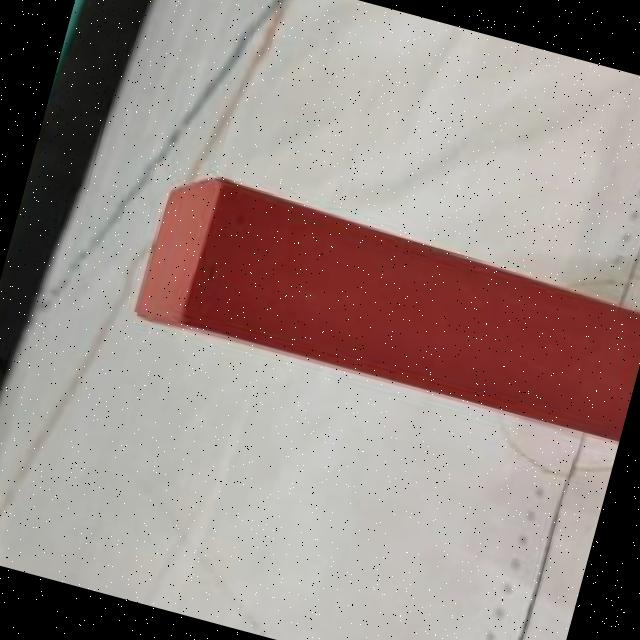redbox: (134, 185, 640, 446)
